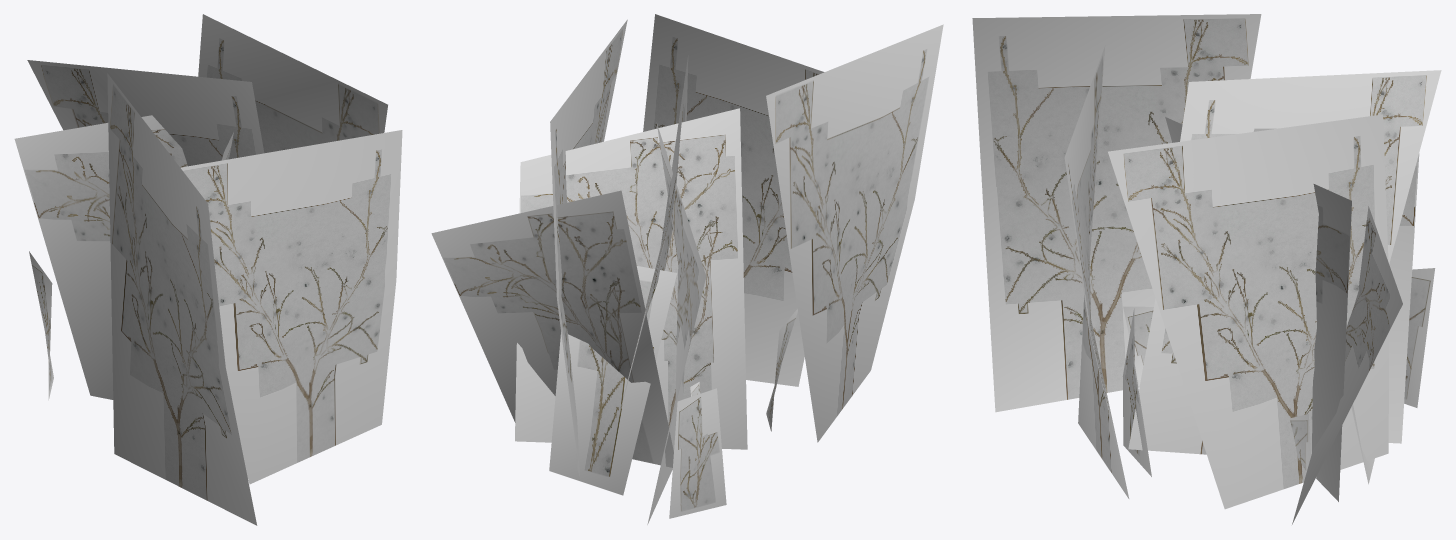
File: Bush3_1.fbx
3 renders of one model, left to right at view 1: azimuth 30°, elevation 25°; view 2: azimuth 150°, elevation 25°; view 3: azimuth 270°, elevation 25°, orthographic. The views are drawn at different scales.
Visible parts, largest first — view 1: LOD0; view 2: LOD0; view 3: LOD0.
Part boxes in pixels (x1,y1,x2,y2): LOD0: (14, 14, 402, 525); LOD0: (431, 14, 943, 524); LOD0: (972, 14, 1441, 524).
Size of what is drawn, in the model's own units: 189 by 234 by 246.
